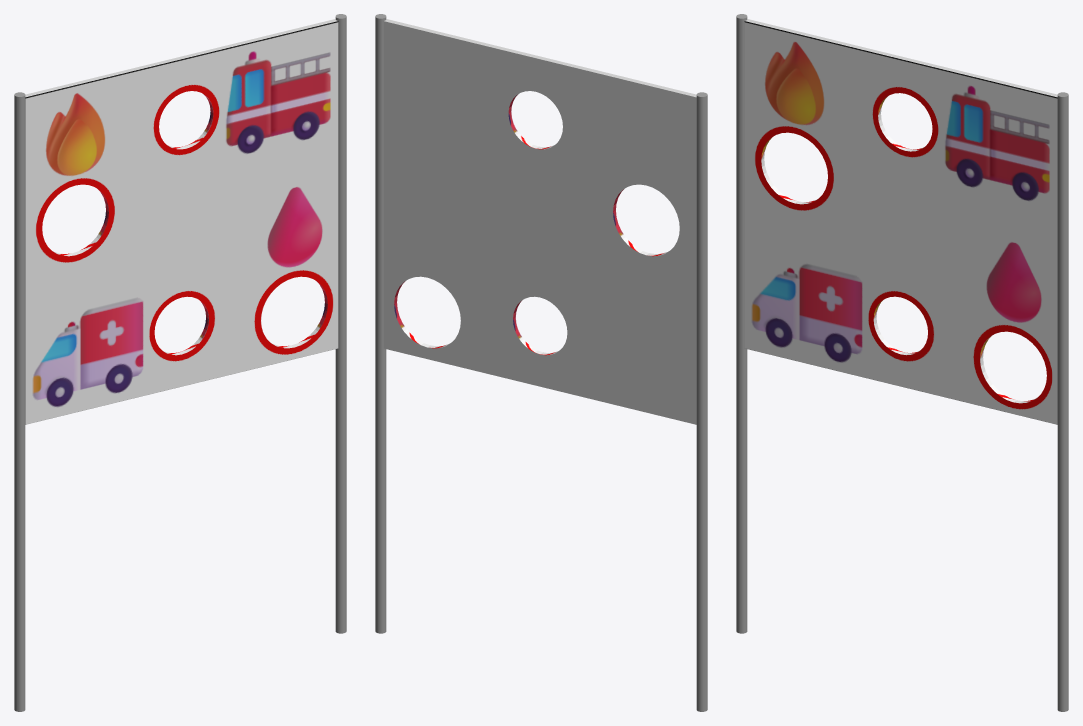
Rendered from taggingtarget.dae.
3 views of the same model, side by side, from view 1: azimuth 30°, elevation 25°; view 2: azimuth 150°, elevation 25°; view 3: azimuth 330°, elevation 25° (orthographic).
Visible parts, largest first — view 1: Cube, Cylinder.002; view 2: Cube, Cylinder.002; view 3: Cube, Cylinder.002.
Part boxes in pixels (x1,y1,x2,y2): Cube: [25, 19, 338, 424]; Cylinder.002: [14, 14, 346, 711]; Cube: [383, 19, 696, 424]; Cylinder.002: [375, 14, 707, 711]; Cube: [744, 19, 1057, 424]; Cylinder.002: [736, 14, 1068, 711].
Bounding box in the file's own units: 0.653 × 0.019 × 1.16.
Materials: 3 (1 with a texture image).
